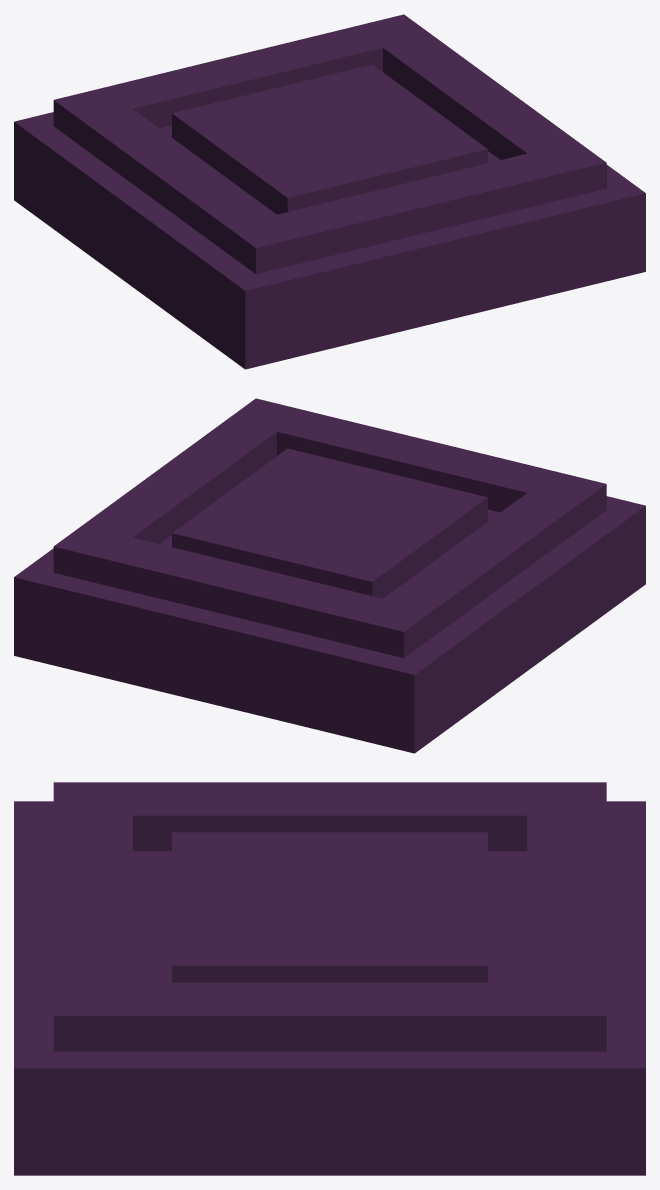
File: man-v1-purple.gltf
The picture shows the model from 3 angles, top to bottom: view 1: azimuth 30°, elevation 25°; view 2: azimuth 150°, elevation 25°; view 3: azimuth 270°, elevation 25°; orthographic projection. The views are drawn at different scales.
Visible parts, largest first — view 1: Untitled; view 2: Untitled; view 3: Untitled.
Boxes of the visible parts, box(x1,y1,x2,y2) form: Untitled: box(14, 14, 645, 369); Untitled: box(14, 398, 645, 753); Untitled: box(14, 782, 645, 1175).
Bounding box in the file's own units: 1.6 × 0.4 × 1.6.
Materials: 1 (1 with a texture image).
